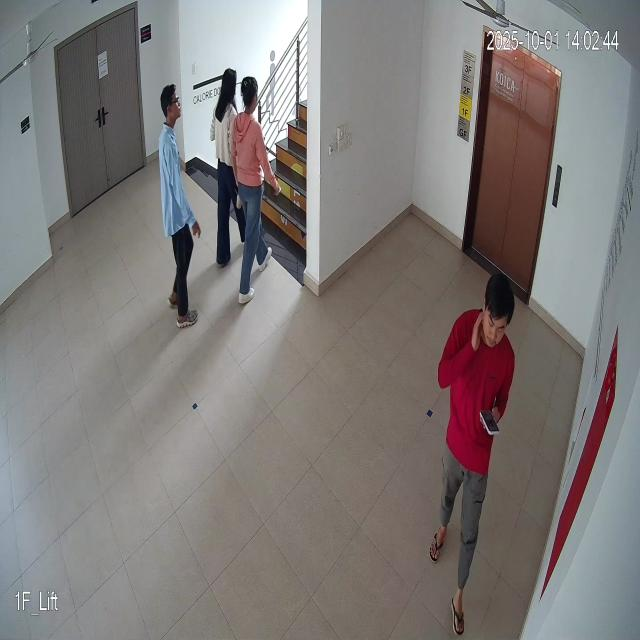face: (475, 265, 520, 356), (158, 81, 184, 129)
